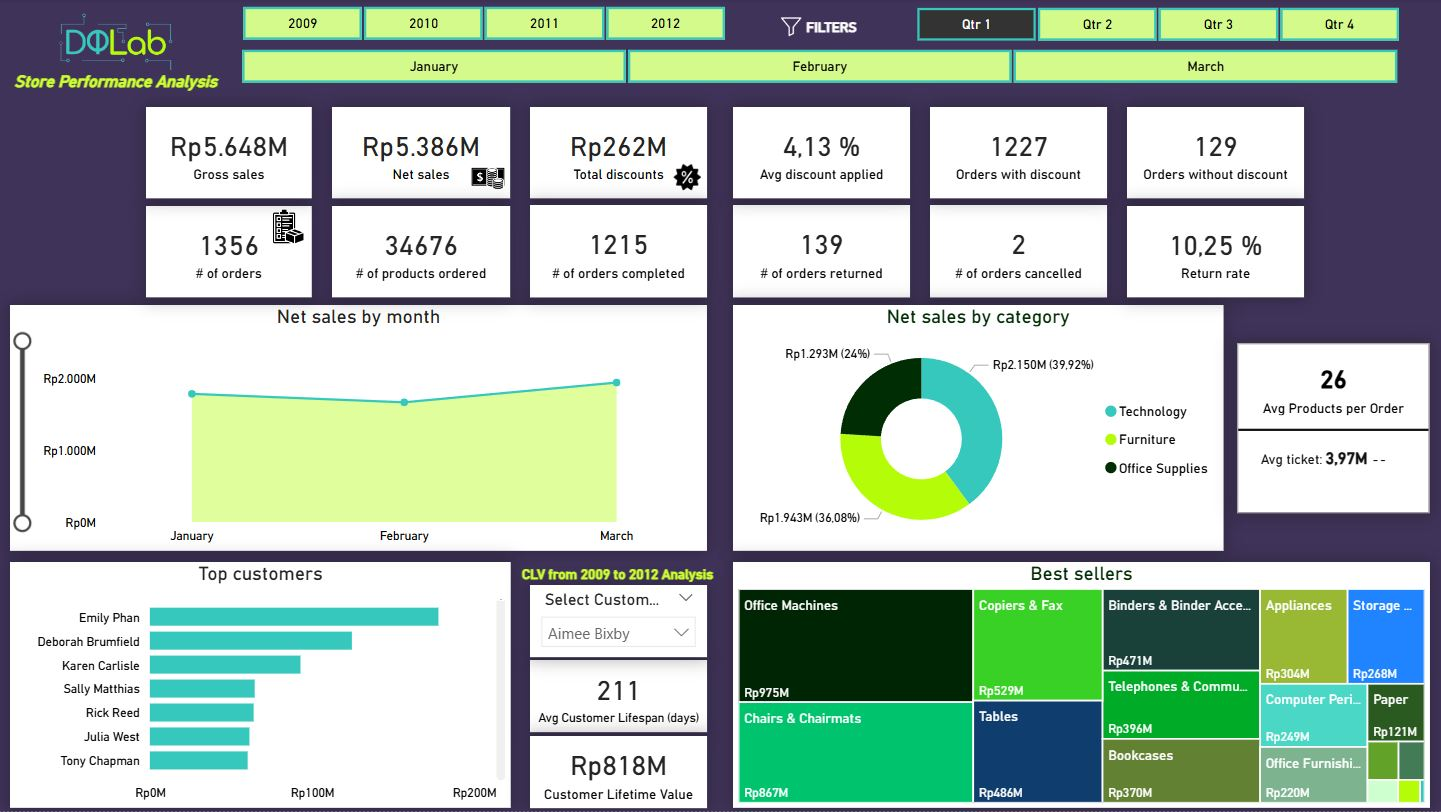

Layout of this report page (visuals, bound fields, positions):
{"tool":"powerbi","page":{"name":"DQLab Sales Analysis","canvas":[1280,720],"ordinal":0},"visuals":[{"type":"card","fields":{"Values":["clean_data.Net Sales"]},"box":[296.1,95.8,157.8,80.7],"z":0},{"type":"card","fields":{"Values":["clean_data.Suma Descuentos"]},"box":[471.6,95.8,156.9,80.7],"z":1000},{"type":"slicer","fields":{"Values":["Calendar.Date.Variation.Date Hierarchy.Quarter"]},"box":[789.2,0.9,476.9,39],"z":2000},{"type":"slicer","fields":{"Values":["Calendar.Date.Variation.Date Hierarchy.Year"]},"box":[191.5,0,476.9,38.1],"z":3000},{"type":"areaChart","title":"Net sales by month","fields":{"Y":["Sum(clean_data.sales)"],"Category":["Calendar.Date.Variation.Date Hierarchy.Month"]},"box":[10.2,271.4,618.2,218.4],"z":4000},{"type":"card","fields":{"Values":["clean_data.Total Orders"]},"box":[131.1,183.1,146.9,80.9],"z":5000},{"type":"card","fields":{"Values":["clean_data.# of Orders Completed"]},"box":[471.6,182.7,156.9,81.6],"z":6000},{"type":"card","fields":{"Values":["clean_data.# of Orders Returned"]},"box":[651.6,182.7,156.9,81.6],"z":7000},{"type":"card","fields":{"Values":["clean_data.# of Orders Cancelled"]},"box":[826.3,182.7,156.9,81.6],"z":8000},{"type":"card","fields":{"Values":["clean_data.Avg Discount Applied"]},"box":[651.6,95.8,156.9,80.7],"z":9000},{"type":"image","box":[27.9,8.4,154.3,60.4],"z":10000},{"type":"donutChart","title":"Net sales by category","fields":{"Category":["clean_data.product_category"],"Y":["Sum(clean_data.sales)"]},"box":[651.6,271.4,435,218.4],"z":11000},{"type":"treemap","title":"Best sellers","fields":{"Group":["clean_data.product_sub_category"],"Values":["Sum(clean_data.sales)"]},"box":[651.6,499.2,618.2,218.4],"z":12000},{"type":"clusteredBarChart","title":"Top customers","fields":{"Category":["clean_data.customer"],"Y":["Sum(clean_data.sales)"]},"box":[10.2,499.2,444.3,218.4],"z":13000},{"type":"cardVisual","fields":{"Data":["clean_data.Product Ticket Medio"]},"box":[1098.7,304.9,171,151.5],"z":14000},{"type":"card","fields":{"Values":["clean_data.Total Products Ordered"]},"box":[296.5,183.1,158,80.9],"z":15000},{"type":"card","fields":{"Values":["clean_data.gross_sales"]},"box":[131.1,95.8,147.2,80.7],"z":16000},{"type":"image","box":[414.6,136.6,39,44.6],"z":17000},{"type":"image","box":[593.1,141.3,35.3,34.4],"z":18000},{"type":"image","box":[236,178.4,42.8,47.3],"z":19000},{"type":"slicer","fields":{"Values":["Calendar.Date.Variation.Date Hierarchy.Month"]},"box":[191,38.2,1074.4,41.8],"z":20000},{"type":"textbox","box":[689.6,10.9,98.3,42.8],"z":21000},{"type":"card","fields":{"Values":["clean_data.Discount Orders"]},"box":[826.3,95.8,156.9,80.7],"z":22000},{"type":"image","box":[685.9,10.9,33.7,28.2],"z":23000},{"type":"card","fields":{"Values":["clean_data.No Discount Orders"]},"box":[1001.1,95.7,157.1,80.9],"z":24000},{"type":"card","fields":{"Values":["clean_data.Return Rate"]},"box":[1001.1,183.1,157.1,80.9],"z":25000},{"type":"card","fields":{"Values":["clean_data.Avg Customer Lifespan"]},"box":[471.3,586.6,157.1,64.1],"z":26000},{"type":"card","fields":{"Values":["clean_data.CLV"]},"box":[471.3,653.5,157.1,64.1],"z":27000},{"type":"textbox","box":[0,59.5,209.2,40.9],"z":28000},{"type":"slicer","fields":{"Values":["clean_data.customer"]},"box":[471.3,519.6,157.1,64.1],"z":29000},{"type":"textbox","box":[451.8,495.5,196.1,40.9],"z":30000}]}

Visuals, with their boxes in screenshot pixels (x1, y1, x2, y2), scaled from the page's 1280x720 canvas onto the 1441x812 screenshot:
card - clean_data.Net Sales: <box>333,108,511,199</box>
card - clean_data.Suma Descuentos: <box>531,108,708,199</box>
slicer - Calendar.Date.Variation.Date Hierarchy.Quarter: <box>888,1,1425,45</box>
slicer - Calendar.Date.Variation.Date Hierarchy.Year: <box>216,0,752,43</box>
"Net sales by month" areaChart: <box>11,306,707,552</box>
card - clean_data.Total Orders: <box>148,206,313,298</box>
card - clean_data.# of Orders Completed: <box>531,206,708,298</box>
card - clean_data.# of Orders Returned: <box>734,206,910,298</box>
card - clean_data.# of Orders Cancelled: <box>930,206,1107,298</box>
card - clean_data.Avg Discount Applied: <box>734,108,910,199</box>
image: <box>31,9,205,78</box>
"Net sales by category" donutChart: <box>734,306,1223,552</box>
"Best sellers" treemap: <box>734,563,1430,809</box>
"Top customers" clusteredBarChart: <box>11,563,512,809</box>
cardVisual - clean_data.Product Ticket Medio: <box>1237,344,1429,515</box>
card - clean_data.Total Products Ordered: <box>334,206,512,298</box>
card - clean_data.gross_sales: <box>148,108,313,199</box>
image: <box>467,154,511,204</box>
image: <box>668,159,707,198</box>
image: <box>266,201,314,255</box>
slicer - Calendar.Date.Variation.Date Hierarchy.Month: <box>215,43,1425,90</box>
textbox: <box>776,12,887,61</box>
card - clean_data.Discount Orders: <box>930,108,1107,199</box>
image: <box>772,12,810,44</box>
card - clean_data.No Discount Orders: <box>1127,108,1304,199</box>
card - clean_data.Return Rate: <box>1127,206,1304,298</box>
card - clean_data.Avg Customer Lifespan: <box>531,662,707,734</box>
card - clean_data.CLV: <box>531,737,707,809</box>
textbox: <box>0,67,236,113</box>
slicer - clean_data.customer: <box>531,586,707,658</box>
textbox: <box>509,559,729,605</box>
